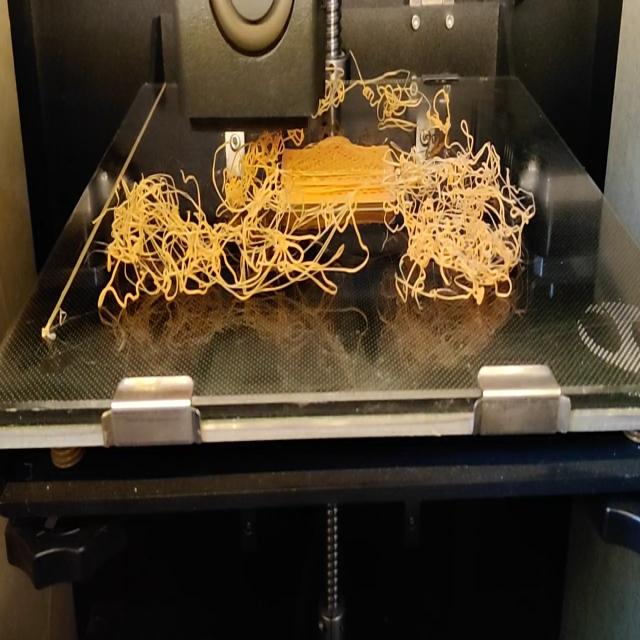spaghetti: (94, 129, 535, 318), (320, 43, 454, 129)
